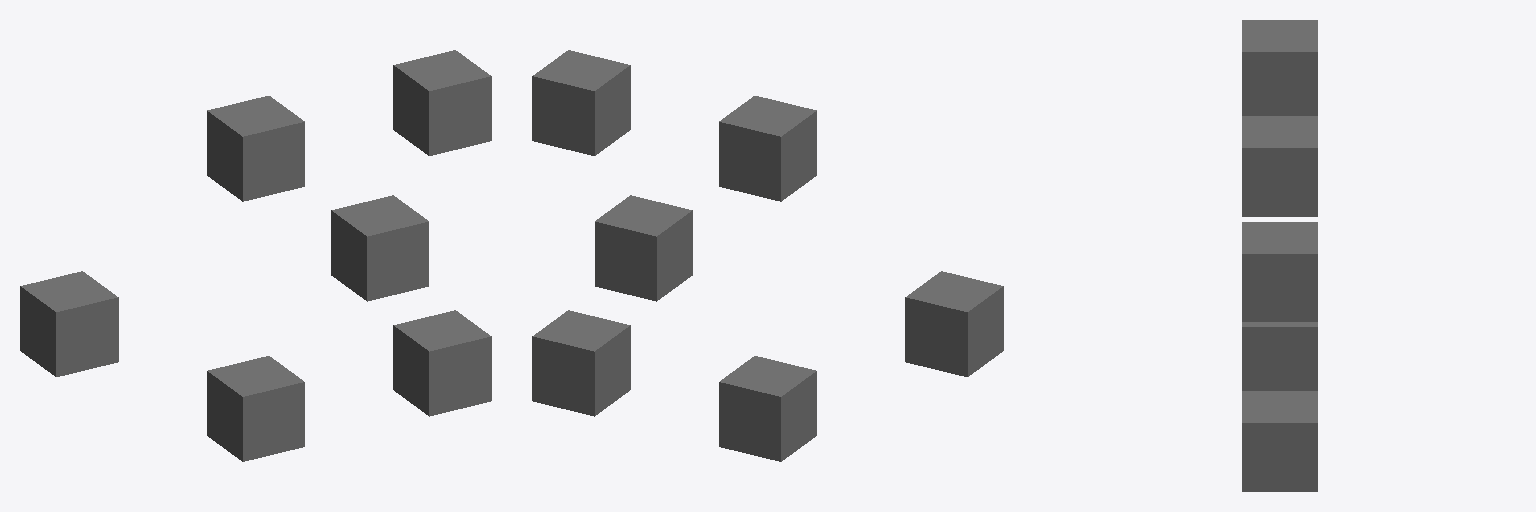
The robot description file, URDF, robot "environment":
<?xml version="1.0" ?>
<robot name="environment">


<link name="main_building">
  <inertial>
    <origin rpy="0 0 0" xyz="0 0 0"/>
    <mass value="1"/>
    <inertia ixx="0" ixy="0" ixz="0" iyy="0" iyz="0" izz="0"/>
  </inertial>
  <visual>
    <origin rpy="0 0 0" xyz="0 0 0"/>
    <geometry>
      <box size="1 1 1" />
    </geometry>
    <material name="silver">
      <color rgba="0.5 0.5 0.5 1"/>
    </material>
  </visual>
  <collision>
      <origin rpy="0 0 0" xyz="0 0 0" />
      <geometry>
	 	    <box size="1 1 1" />
      </geometry>
  </collision>
</link>

<joint name="base_link_block_1" type="fixed">
    <parent link="main_building"/>
    <child link="block_1"/>
</joint>

<link name="block_1">
  <inertial>
    <origin rpy="0 0 0" xyz="3 0 2"/>
    <mass value="1"/>
    <inertia ixx="0" ixy="0" ixz="0" iyy="0" iyz="0" izz="0"/>
  </inertial>
  <visual>
    <origin rpy="0 0 0" xyz="3 0 2"/>
    <geometry>
      <box size="1 1 1" />
    </geometry>
    <material name="silver">
      <color rgba="0.5 0.5 0.5 1"/>
    </material>
  </visual>
  <collision>
      <origin rpy="0 0 0" xyz="3 0 2" />
      <geometry>
	 	    <box size="1 1 1" />
      </geometry>
  </collision>
</link>

<joint name="base_link_block_2" type="fixed">
    <parent link="main_building"/>
    <child link="block_2"/>
</joint>

<link name="block_2">
  <inertial>
    <origin rpy="0 0 0" xyz="3 0 -2"/>
    <mass value="1"/>
    <inertia ixx="0" ixy="0" ixz="0" iyy="0" iyz="0" izz="0"/>
  </inertial>
  <visual>
    <origin rpy="0 0 0" xyz="3 0 -2"/>
    <geometry>
      <box size="1 1 1" />
    </geometry>
    <material name="silver">
      <color rgba="0.5 0.5 0.5 1"/>
    </material>
  </visual>
  <collision>
      <origin rpy="0 0 0" xyz="3 0 -2" />
      <geometry>
	 	    <box size="1 1 1" />
      </geometry>
  </collision>
</link>

<joint name="base_link_block_3" type="fixed">
    <parent link="main_building"/>
    <child link="block_3"/>
</joint>

<link name="block_3">
  <inertial>
    <origin rpy="0 0 0" xyz="6 0 2"/>
    <mass value="1"/>
    <inertia ixx="0" ixy="0" ixz="0" iyy="0" iyz="0" izz="0"/>
  </inertial>
  <visual>
    <origin rpy="0 0 0" xyz="6 0 2"/>
    <geometry>
      <box size="1 1 1" />
    </geometry>
    <material name="silver">
      <color rgba="0.5 0.5 0.5 1"/>
    </material>
  </visual>
  <collision>
      <origin rpy="0 0 0" xyz="6 0 2" />
      <geometry>
	 	    <box size="1 1 1" />
      </geometry>
  </collision>
</link>


<joint name="base_link_block_4" type="fixed">
    <parent link="main_building"/>
    <child link="block_4"/>
</joint>

<link name="block_4">
  <inertial>
    <origin rpy="0 0 0" xyz="6 0 -2"/>
    <mass value="1"/>
    <inertia ixx="0" ixy="0" ixz="0" iyy="0" iyz="0" izz="0"/>
  </inertial>
  <visual>
    <origin rpy="0 0 0" xyz="6 0 -2"/>
    <geometry>
      <box size="1 1 1" />
    </geometry>
    <material name="silver">
      <color rgba="0.5 0.5 0.5 1"/>
    </material>
  </visual>
  <collision>
      <origin rpy="0 0 0" xyz="6 0 -2" />
      <geometry>
	 	    <box size="1 1 1" />
      </geometry>
  </collision>
</link>


<joint name="base_link_block_5" type="fixed">
    <parent link="main_building"/>
    <child link="block_5"/>
</joint>

<link name="block_5">
  <inertial>
    <origin rpy="0 0 0" xyz="5 0 0"/>
    <mass value="1"/>
    <inertia ixx="0" ixy="0" ixz="0" iyy="0" iyz="0" izz="0"/>
  </inertial>
  <visual>
    <origin rpy="0 0 0" xyz="5 0 0"/>
    <geometry>
      <box size="1 1 1" />
    </geometry>
    <material name="silver">
      <color rgba="0.5 0.5 0.5 1"/>
    </material>
  </visual>
  <collision>
      <origin rpy="0 0 0" xyz="5 0 0" />
      <geometry>
	 	    <box size="1 1 1" />
      </geometry>
  </collision>
</link>

</robot>

--- What the picture shows (computed from the rendered views, not written in the file) ---
The picture shows the robot from 3 angles, left to right: view 1: azimuth 30°, elevation 25°; view 2: azimuth 150°, elevation 25°; view 3: azimuth 270°, elevation 25°; orthographic projection.
Model environment with 6 links and 5 joints (5 fixed), rooted at main_building, posed all joints at 0.
Links seen in each view (by area): view 1: main_building, block_3, block_4, block_1, block_2, block_5; view 2: main_building, block_3, block_4, block_1, block_2, block_5; view 3: block_3, block_4, block_5, block_1, block_2.
Boxes of the visible links, x1,y1,x2,y2 form: main_building: (20, 271, 118, 376); block_3: (393, 50, 491, 155); block_4: (393, 310, 491, 416); block_1: (207, 96, 304, 201); block_2: (207, 356, 304, 461); block_5: (331, 195, 428, 301); main_building: (905, 271, 1003, 376); block_3: (532, 50, 630, 155); block_4: (532, 310, 630, 416); block_1: (719, 96, 816, 201); block_2: (719, 356, 816, 461); block_5: (595, 195, 692, 301); block_3: (1242, 116, 1317, 216); block_4: (1242, 391, 1317, 491); block_5: (1242, 222, 1317, 321); block_1: (1242, 20, 1317, 115); block_2: (1242, 322, 1317, 390).
Bounding box of the posed robot: 7 × 1 × 5 m (x, y, z).
Geometry: primitives only (box / cylinder / sphere), no mesh files.